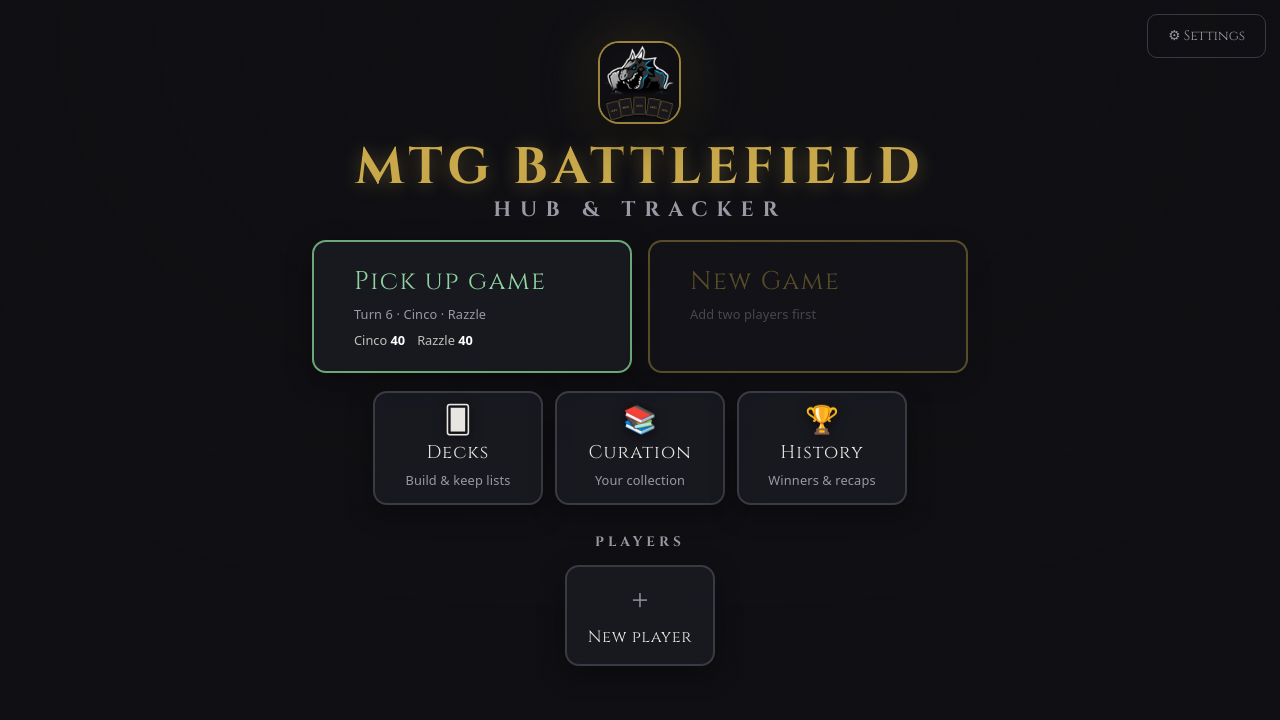
Test: a saved game lands on home with a Pick up card that resumes it
Click the button "Pick up game Turn 6 · Cinco · Razzle Cinco 40 Razzle 40".
click(472, 306)  # box top-left (312, 240), bottom-right (632, 373)
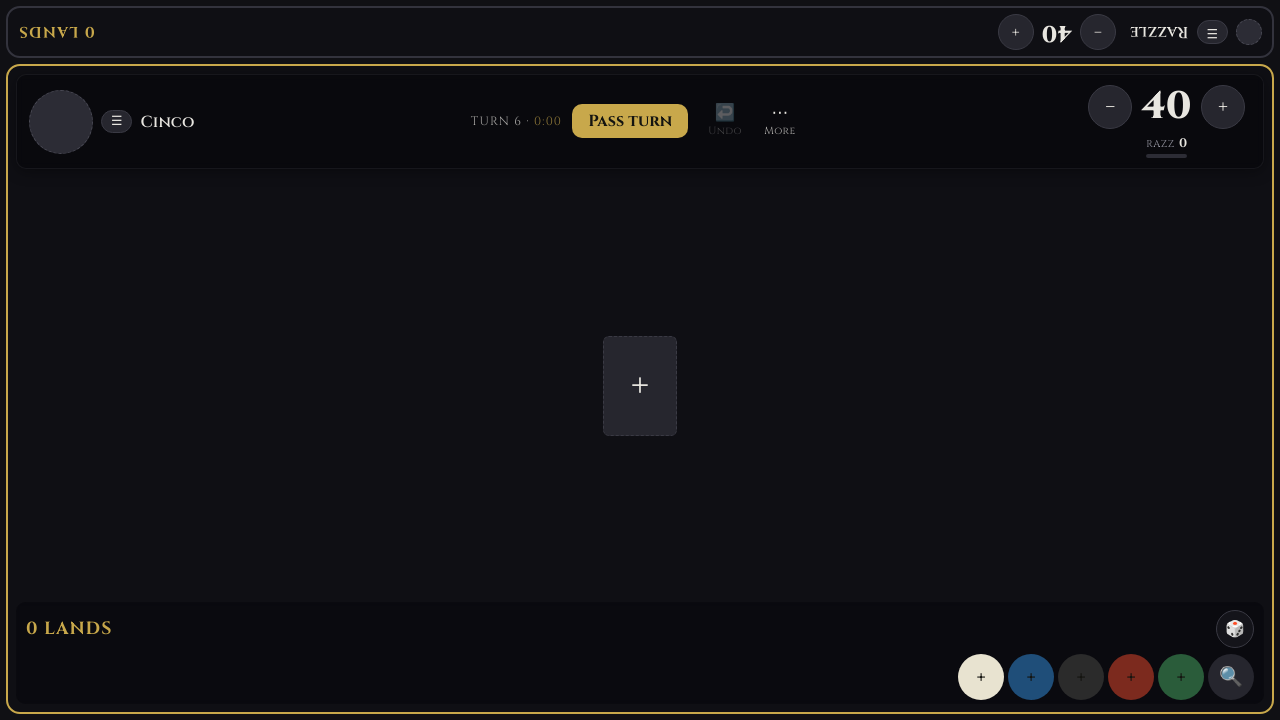
Expected: the button "Pass turn" is shown, top-left (572, 104), bottom-right (688, 138)
